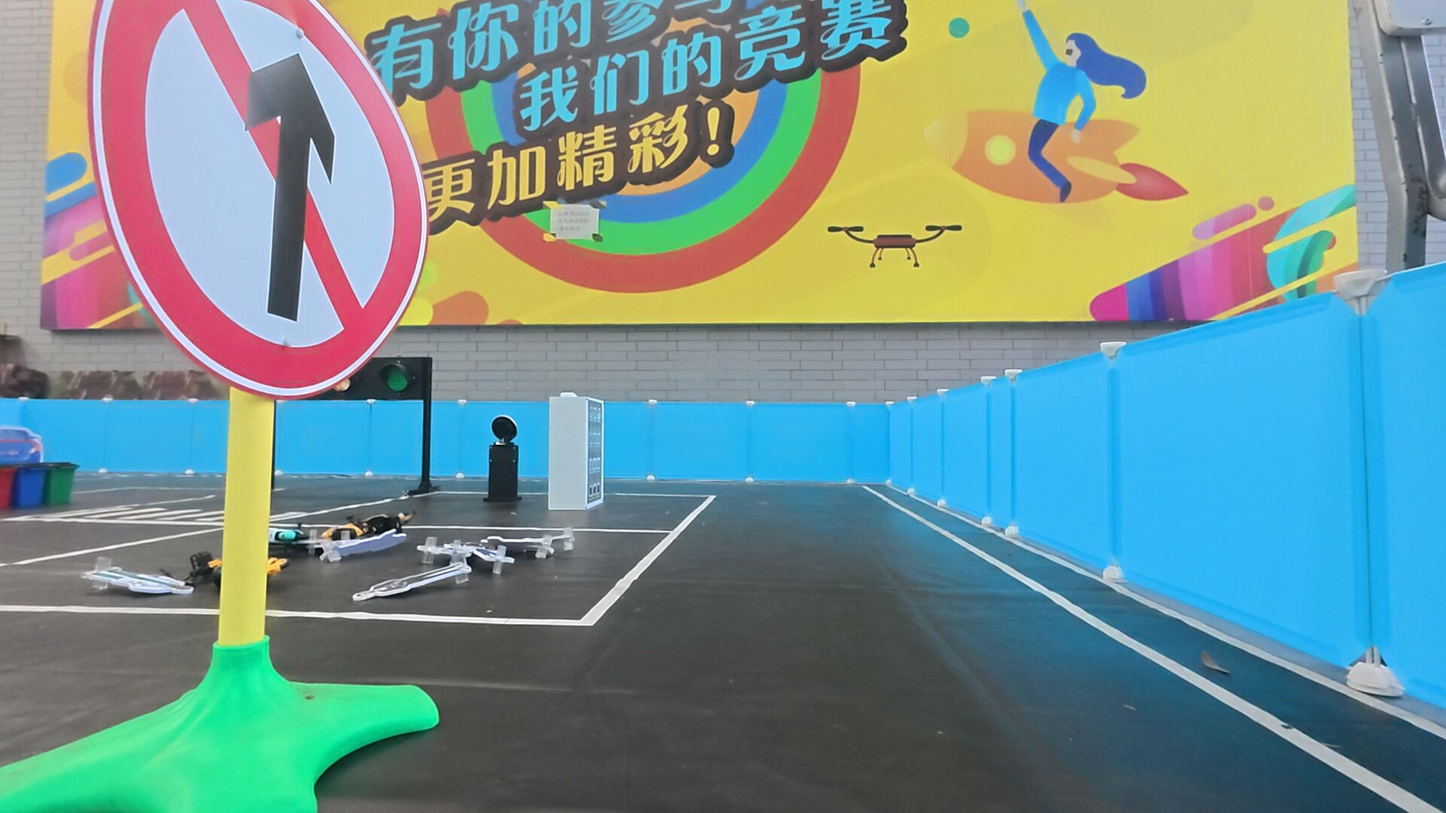obstacle: (75, 0, 424, 409)
